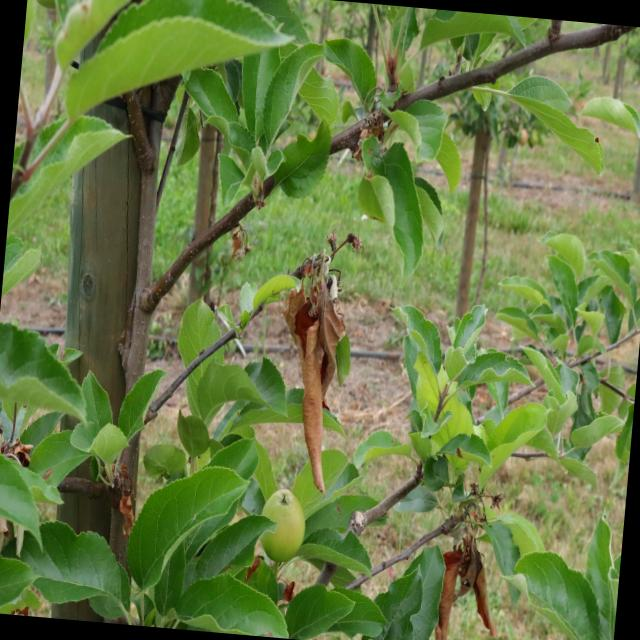-FireBlight-: (278, 260, 350, 492), (434, 539, 495, 640), (0, 431, 25, 469), (117, 480, 134, 526)
